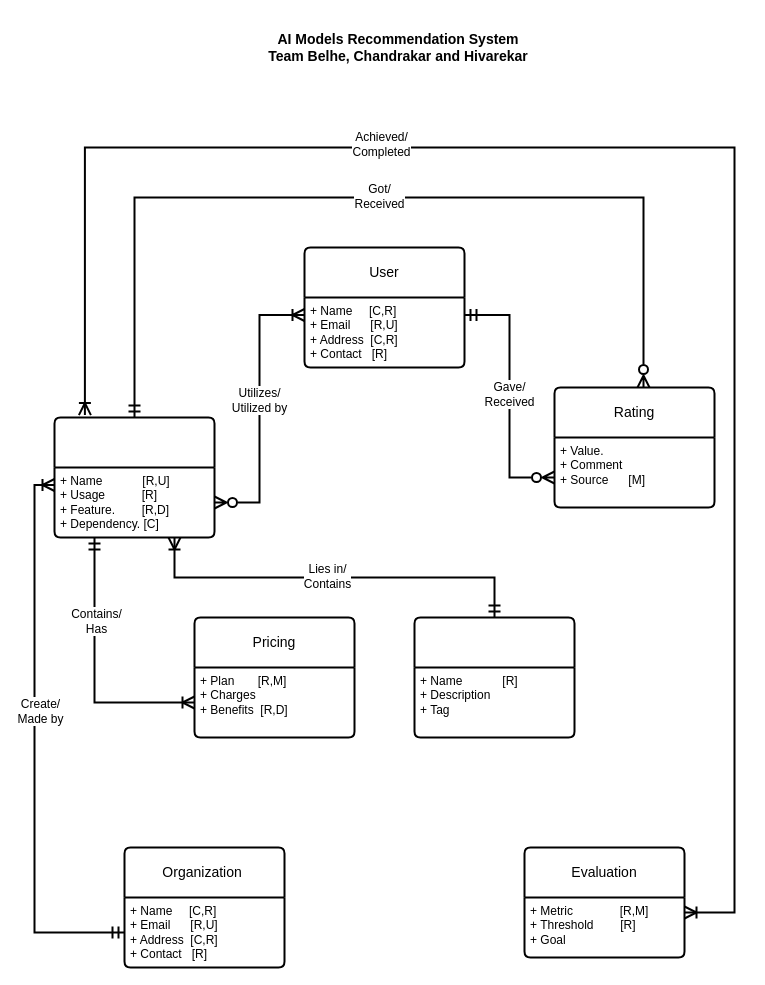
The diagram is 765 pixels wide and 985 high, and some of its shapes have lost their labels. Each missing label, with the box of its shape:
Category: (413, 616, 575, 738)
Model: (53, 416, 215, 538)
